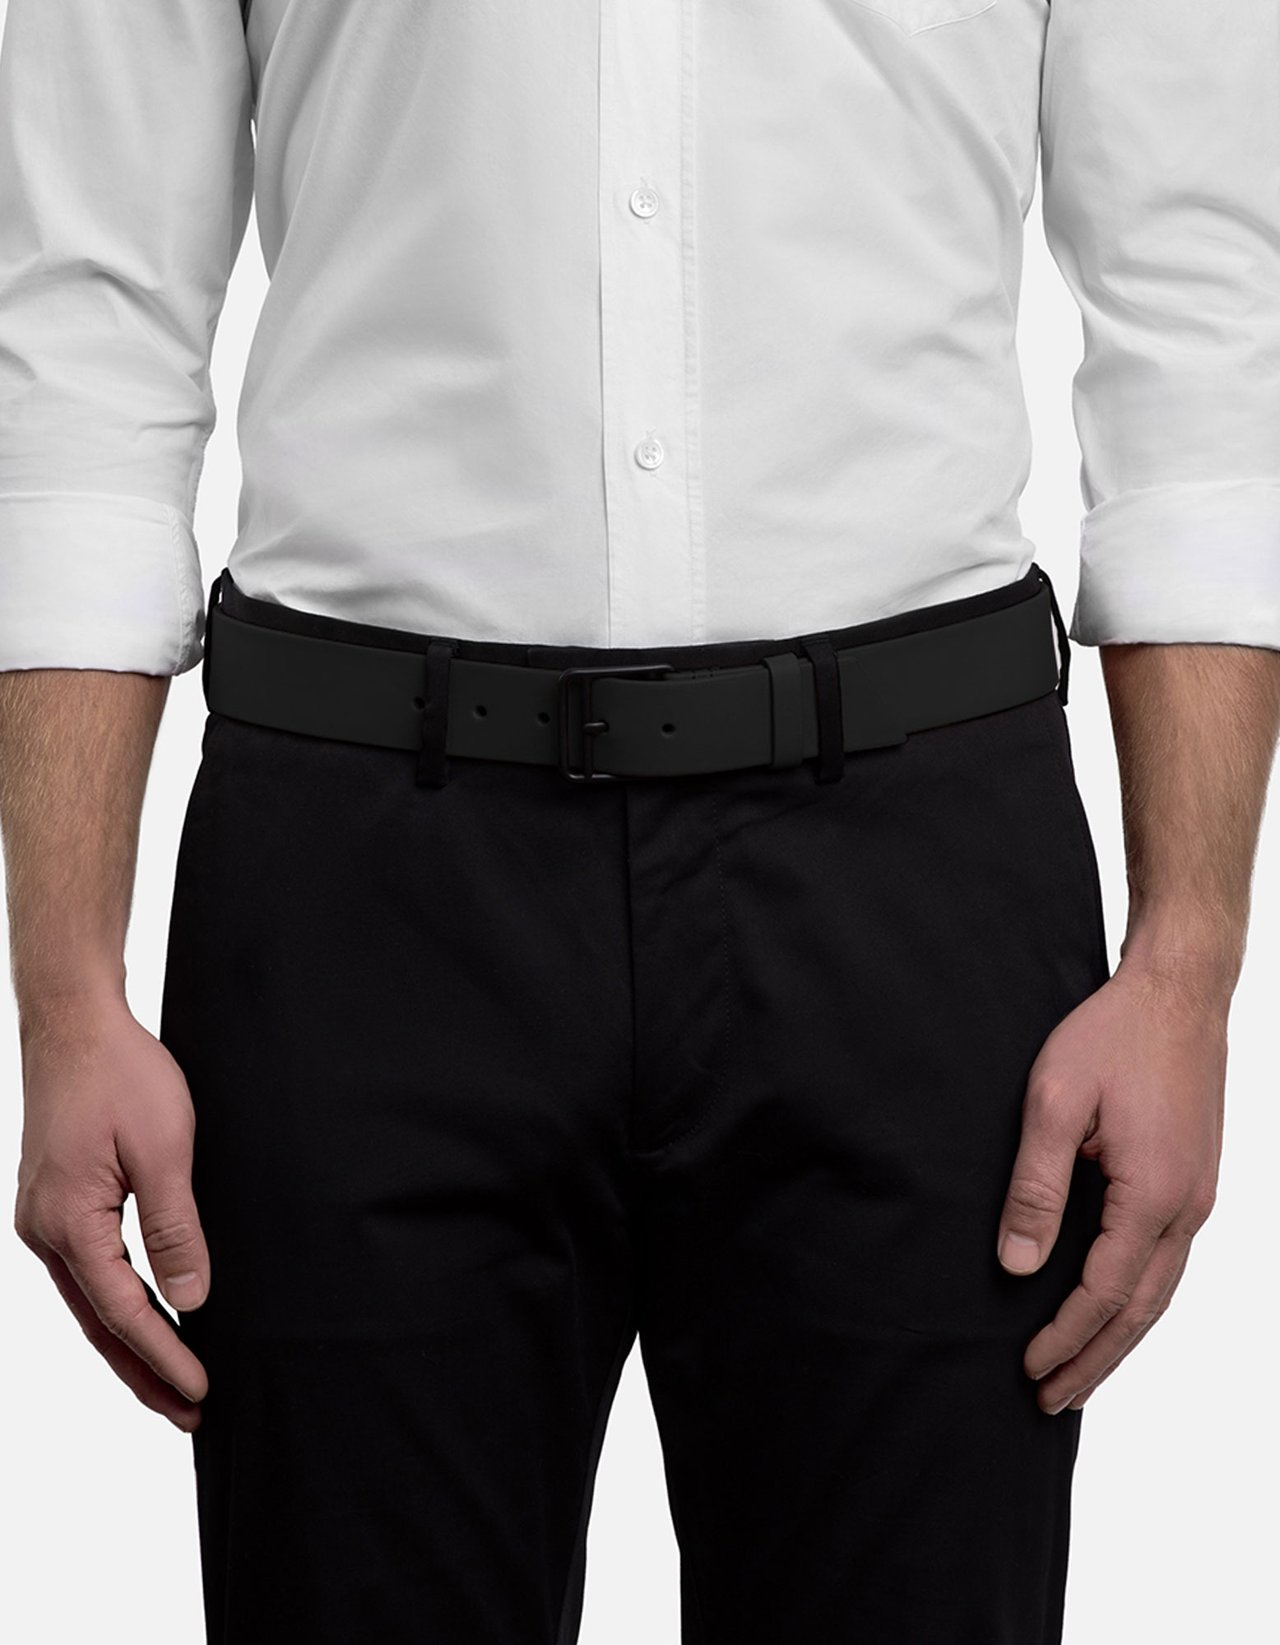F_belt: (178, 571, 1082, 773)
F_dress pants: (182, 562, 1101, 1625)
F_shirt: (13, 9, 1280, 738)
